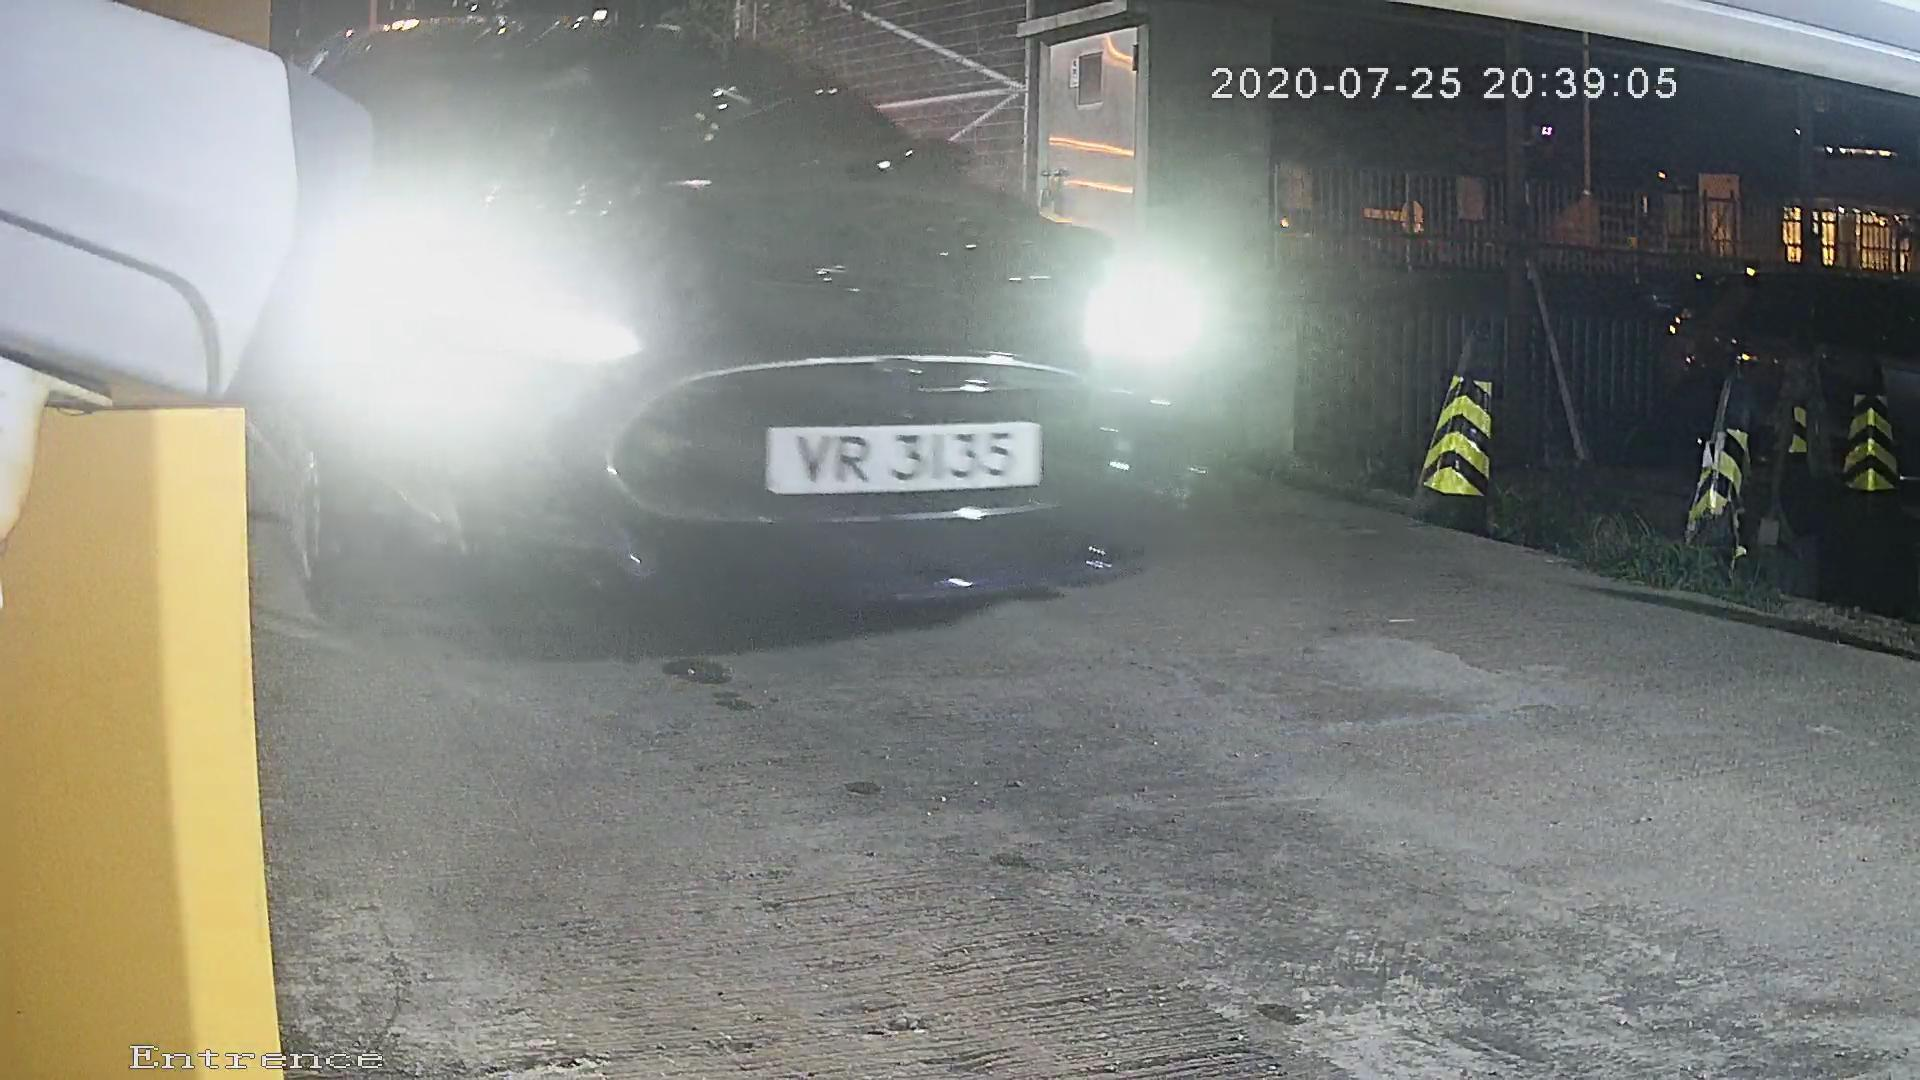privatecar: (232, 5, 1458, 671)
